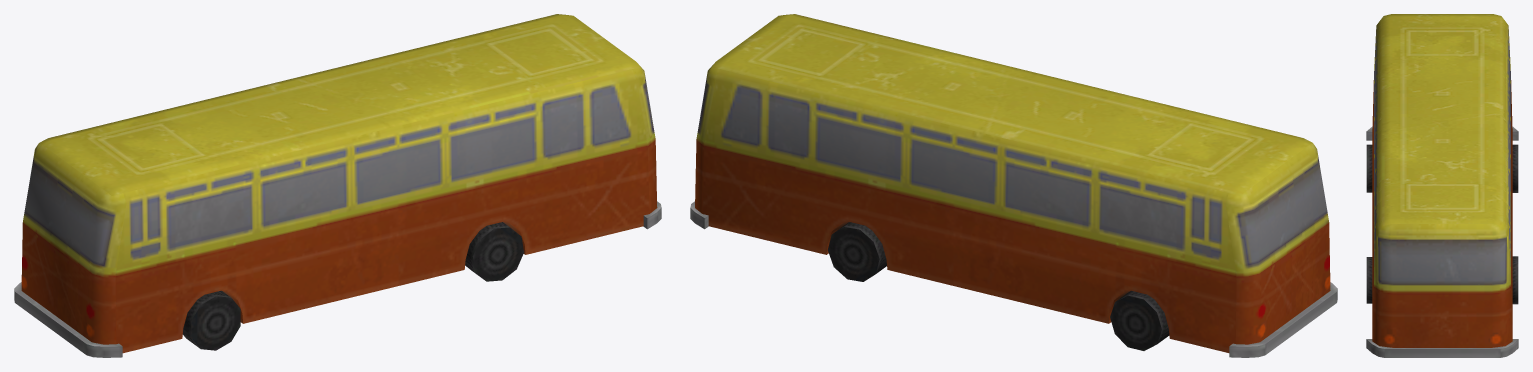
The model's file is SM_ToyBus.fbx.
3 views of the same model, side by side, from view 1: azimuth 30°, elevation 25°; view 2: azimuth 150°, elevation 25°; view 3: azimuth 270°, elevation 25° (orthographic). The views are drawn at different scales.
Visible parts, largest first — view 1: SM_ToyBus; view 2: SM_ToyBus; view 3: SM_ToyBus.
Part boxes in pixels (x1,y1,x2,y2): SM_ToyBus: (14, 14, 661, 357); SM_ToyBus: (690, 14, 1337, 357); SM_ToyBus: (1366, 14, 1518, 357).
Bounding box in the file's own units: 58.92 × 16.71 × 17.01.
Materials: 1 (1 with a texture image).
